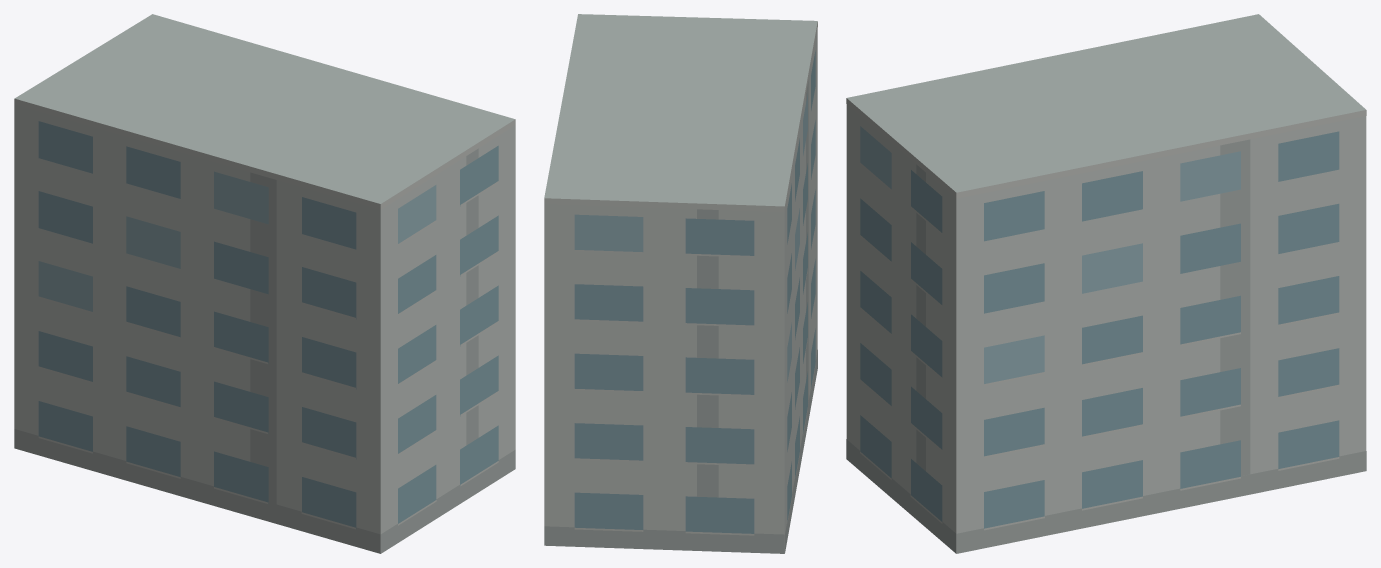
File: survey-upis-32706550.glb
3 views of the same model, side by side, from view 1: azimuth 30°, elevation 25°; view 2: azimuth 150°, elevation 25°; view 3: azimuth 270°, elevation 25° (orthographic). The views are drawn at different scales.
Visible parts, largest first — view 1: survey-upis-32706550.tmp; view 2: survey-upis-32706550.tmp; view 3: survey-upis-32706550.tmp.
Boxes of the visible parts, bbox=[...] form: survey-upis-32706550.tmp: bbox=[14, 14, 515, 553]; survey-upis-32706550.tmp: bbox=[544, 14, 817, 553]; survey-upis-32706550.tmp: bbox=[846, 14, 1366, 553].
Size of the model in its own units: 15.39 by 14.5 by 18.93.
